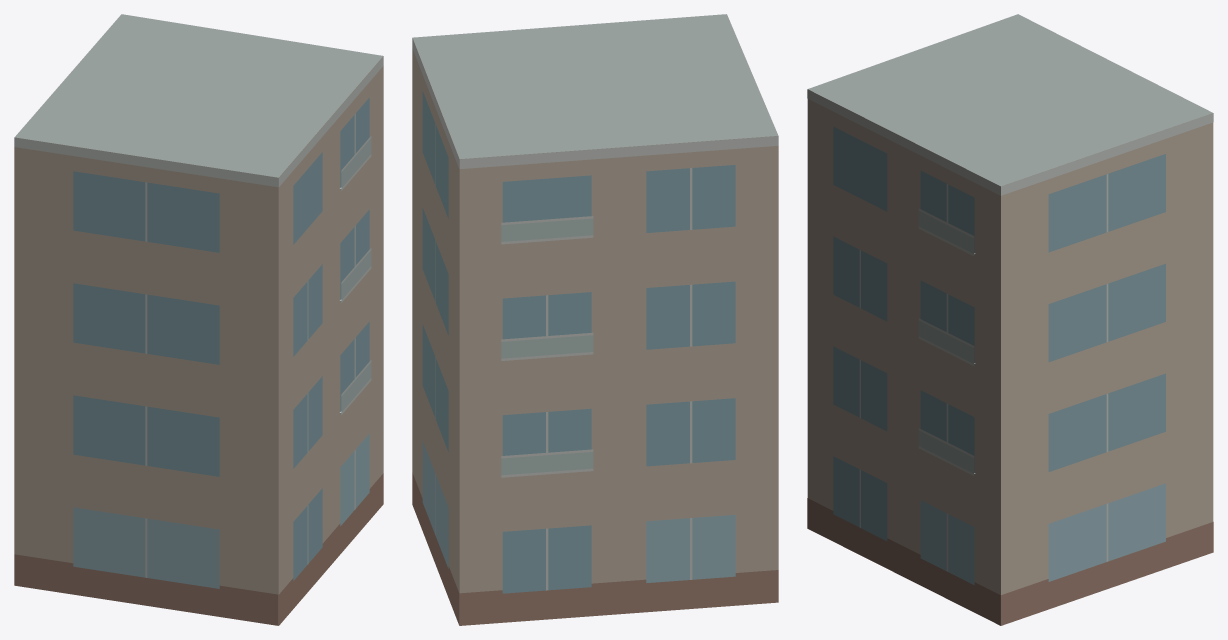
Rendered from survey-upis-32927812.glb.
3 views of the same model, side by side, from view 1: azimuth 30°, elevation 25°; view 2: azimuth 150°, elevation 25°; view 3: azimuth 270°, elevation 25° (orthographic). The views are drawn at different scales.
Visible parts, largest first — view 1: survey-upis-32927812.tmp; view 2: survey-upis-32927812.tmp; view 3: survey-upis-32927812.tmp.
Boxes of the visible parts, x1=… form: survey-upis-32927812.tmp: x1=14, y1=14, x2=383, y2=625; survey-upis-32927812.tmp: x1=412, y1=14, x2=778, y2=625; survey-upis-32927812.tmp: x1=807, y1=14, x2=1213, y2=625.
Bounding box in the file's own units: 9.6 × 11.4 × 9.55.
